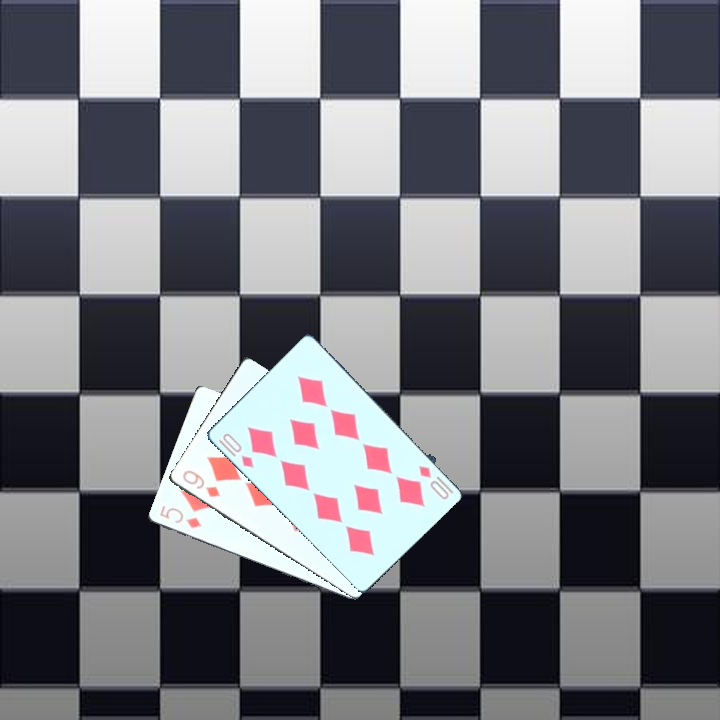10d: (414, 461, 456, 502), (218, 429, 256, 471)
5d: (156, 501, 204, 531)
9d: (178, 466, 223, 500)
